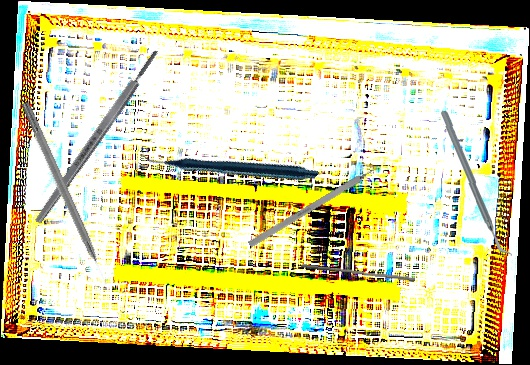Chopper: (437, 110, 515, 257)
Handpiece: (141, 77, 320, 251)
Hook Surgical: (18, 100, 111, 288), (247, 159, 389, 248)
Pusher: (300, 264, 416, 282)
Scalpel Handle: (32, 47, 162, 226)
